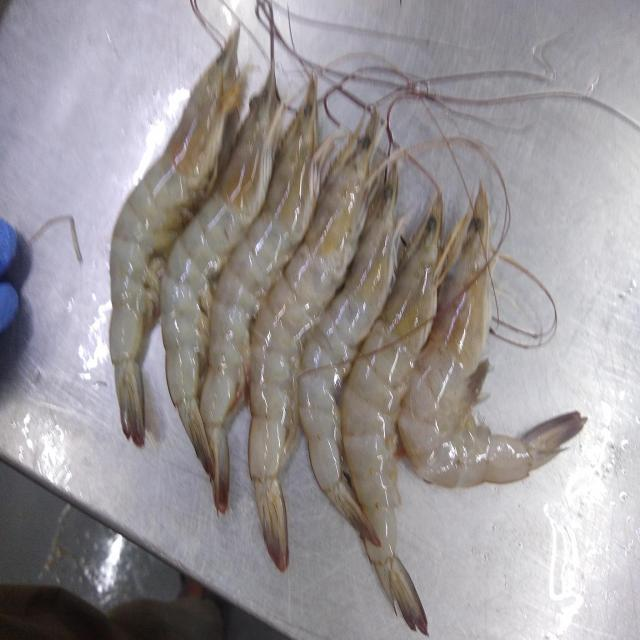shrimp: (248, 112, 379, 572), (398, 187, 587, 488), (342, 191, 468, 635), (109, 28, 242, 447), (200, 77, 320, 513), (160, 70, 283, 475), (299, 163, 404, 545)
